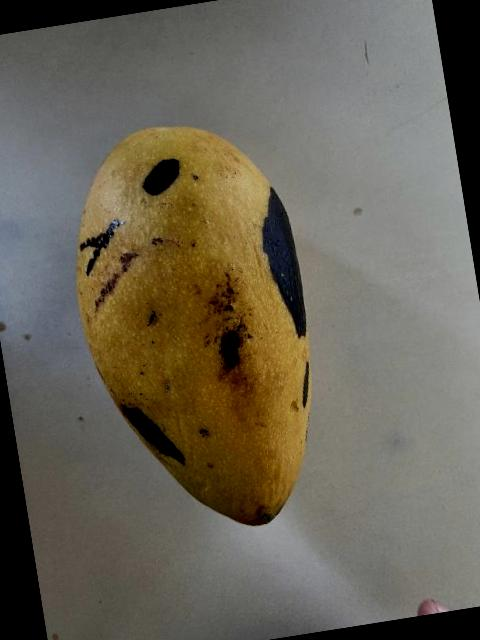Mango Overripe: (30, 72, 353, 573)
